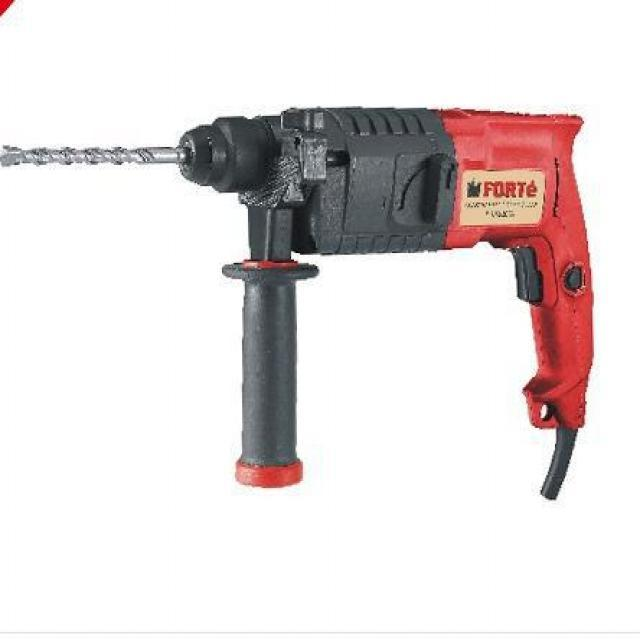drill: (1, 107, 596, 502)
